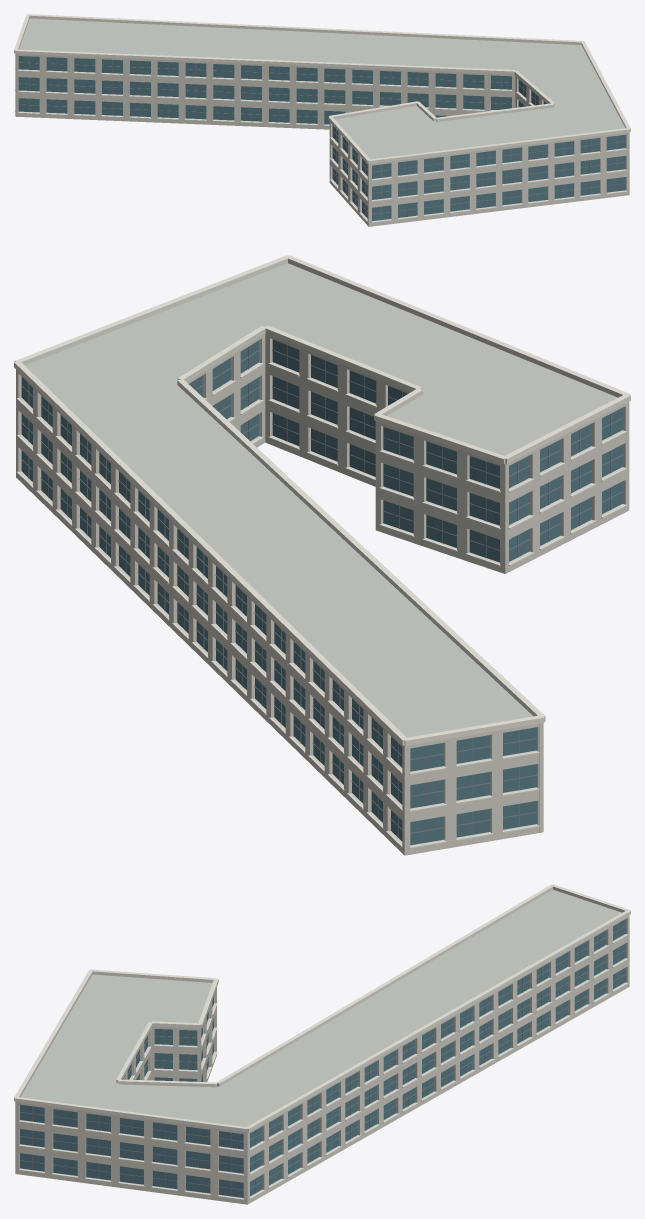
The picture shows the model from 3 angles, top to bottom: view 1: azimuth 30°, elevation 25°; view 2: azimuth 150°, elevation 25°; view 3: azimuth 270°, elevation 25°; orthographic projection. The views are drawn at different scales.
Visible parts, largest first — view 1: roof, wall, glass, trim, metal; view 2: roof, wall, glass, trim, metal; view 3: roof, wall, glass, trim, metal.
Boxes of the visible parts, x1,y1,x2,y2 form: roof: (19, 18, 624, 159); wall: (15, 54, 629, 226); glass: (18, 56, 625, 220); trim: (14, 14, 630, 222); metal: (18, 56, 625, 220); roof: (25, 263, 617, 737); wall: (16, 333, 629, 855); glass: (21, 339, 622, 845); trim: (14, 255, 630, 848); metal: (21, 345, 622, 842); roof: (21, 889, 621, 1126); wall: (15, 915, 629, 1204); glass: (20, 919, 625, 1197); trim: (14, 884, 630, 1200); metal: (20, 923, 625, 1196).
Bounding box in the file's own units: 67.22 × 9.74 × 71.56.
